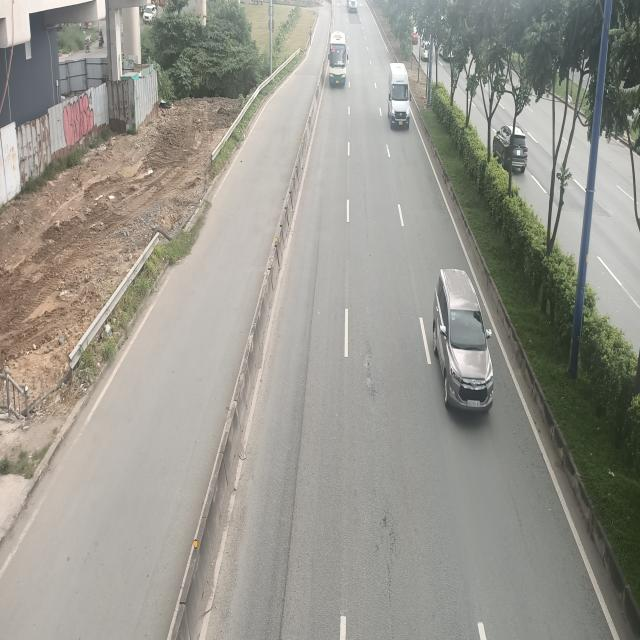car: (434, 269, 497, 417)
coach: (328, 31, 348, 88)
van: (387, 64, 411, 129)
